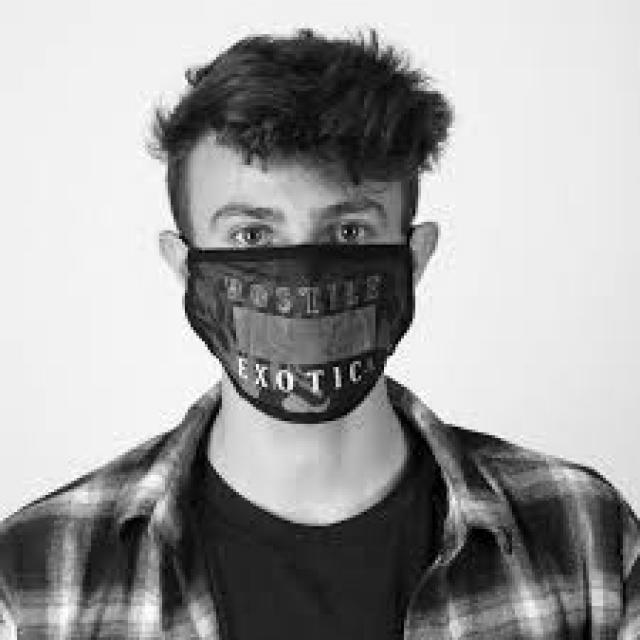fake: (184, 237, 414, 427)
real: (189, 141, 406, 426)
